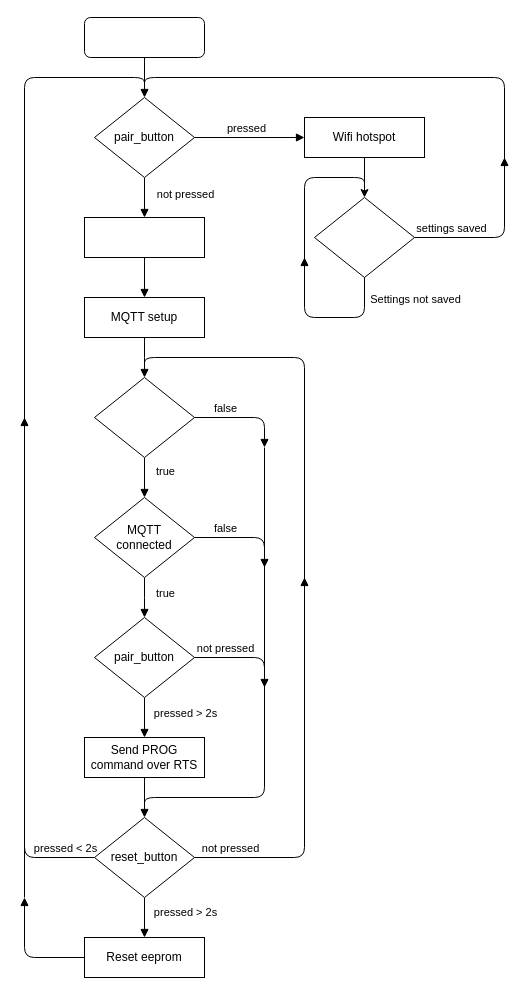
Image size: 530x995. Some labels were removed from this diagram. The centre of each missing label's shape, as x and y in pixels:
Init: the point at 144,37
Webserver: the point at 364,237
WiFi connected: the point at 144,417
Wifi setup: the point at 144,237
